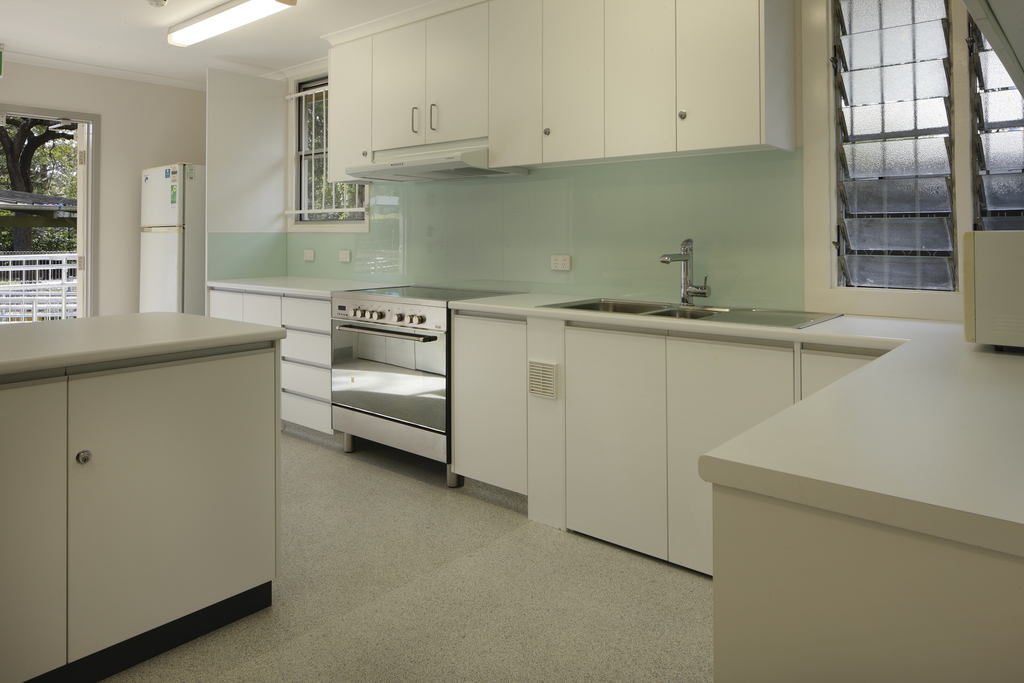cabinet door: (71, 381, 265, 598), (574, 330, 659, 532), (2, 388, 58, 660), (678, 14, 761, 142), (461, 325, 526, 483), (609, 18, 671, 151), (487, 4, 538, 160), (550, 9, 605, 151), (426, 32, 483, 136), (376, 37, 424, 147), (334, 58, 365, 173), (278, 396, 327, 427), (286, 365, 335, 391), (283, 301, 331, 324), (290, 330, 330, 352)
handle: (342, 326, 434, 349), (286, 388, 334, 412), (285, 355, 334, 371), (402, 104, 422, 134), (284, 326, 335, 337), (77, 448, 98, 472), (428, 103, 442, 132), (545, 123, 555, 139), (676, 110, 687, 121)
refrigerator door: (142, 231, 184, 313), (142, 165, 182, 217)
